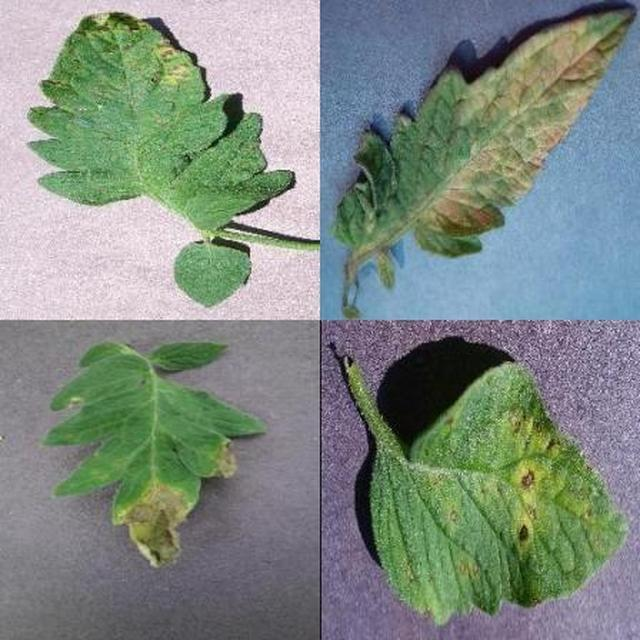Septoria Leaf: (110, 94, 640, 640)
